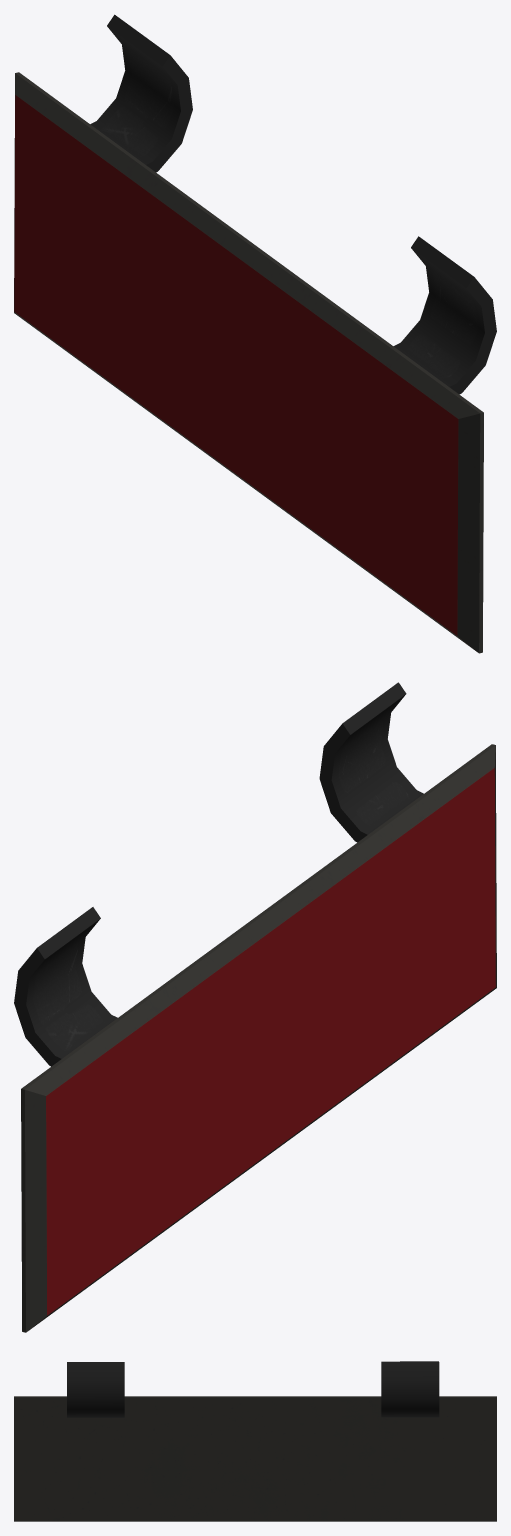
Rendered from Foot Back.obj.
The picture shows the model from 3 angles, top to bottom: view 1: azimuth 30°, elevation 25°; view 2: azimuth 150°, elevation 25°; view 3: azimuth 270°, elevation 25°; orthographic projection. The views are drawn at different scales.
Parts seen in each view (by area): view 1: Object009; view 2: Object009; view 3: Object009.
Boxes of the visible parts, box(x1,y1,x2,y2) form: Object009: box(14, 14, 496, 653); Object009: box(14, 682, 496, 1332); Object009: box(14, 1361, 496, 1521).
Size of the model in its own units: 4.68 by 18.54 by 47.6.
Materials: 1 (1 with a texture image).
